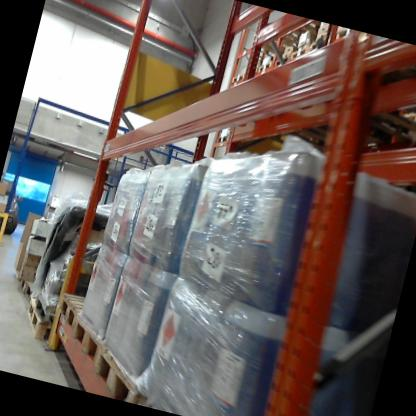pallet: (212, 91, 416, 151), (82, 333, 153, 403), (20, 299, 81, 356), (32, 285, 93, 337), (66, 307, 112, 368), (50, 290, 93, 346), (308, 21, 350, 58), (272, 40, 311, 69), (17, 280, 44, 309), (228, 70, 248, 88), (257, 59, 273, 76)
